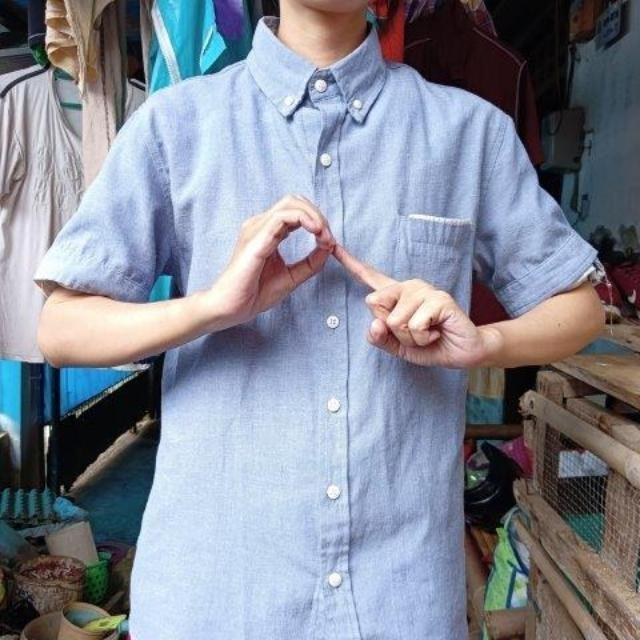Q: (219, 174, 472, 372)
